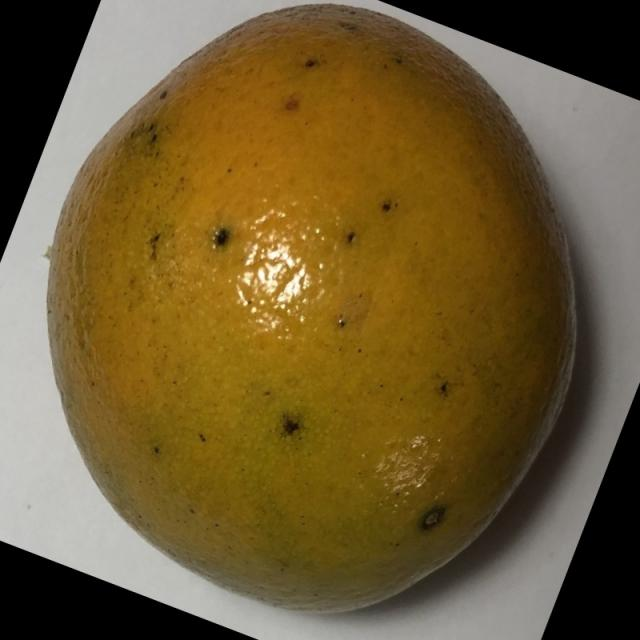blackspot: (27, 0, 592, 625)
